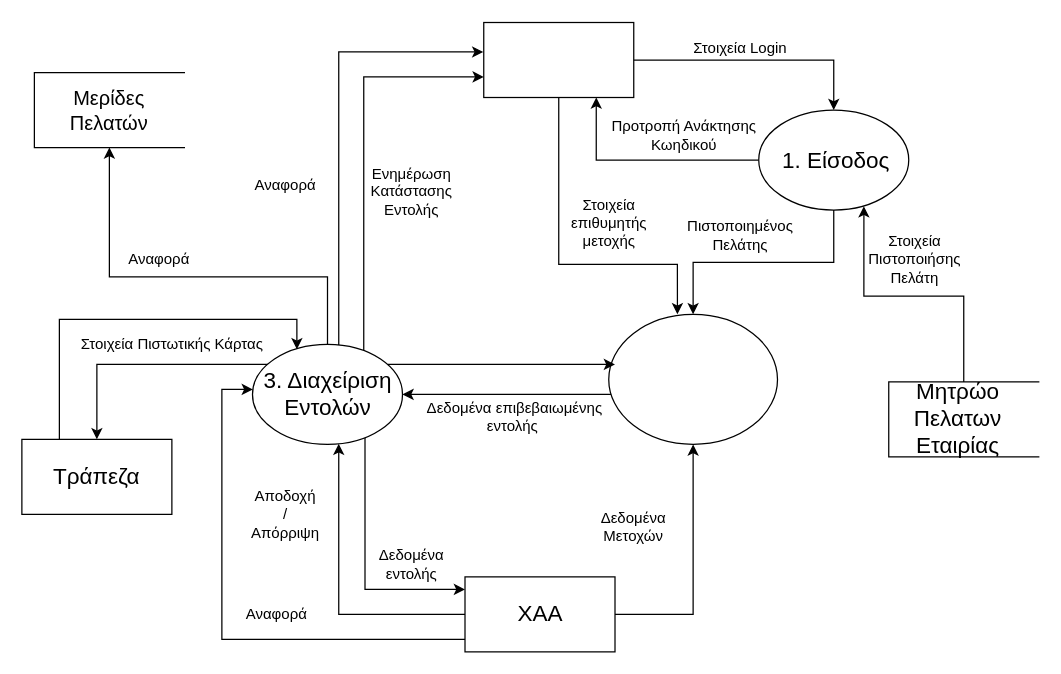
Some shapes in this 1061 by 674 pixel diagram are drawn without their labels. The centre of each missing label's shape, as x and y in pixels:
"2. Διεπαφή Διαβίβασης Εντολών" belongs at point 693,378.
"Πελάτης" belongs at point 558,59.
